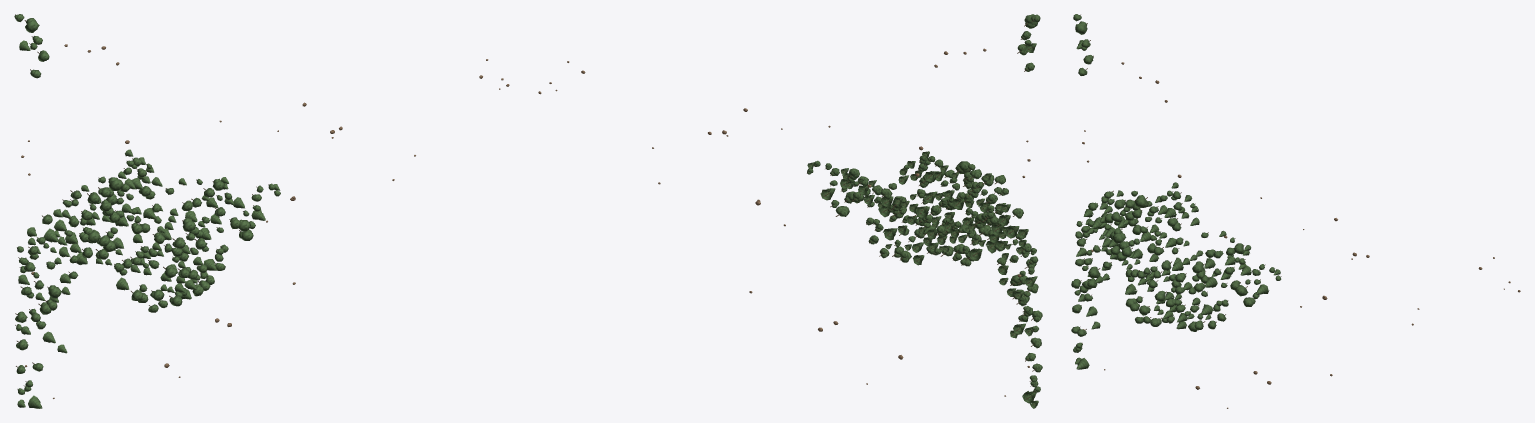
The model's file is green_island_002_vegetation.obj.
The picture shows the model from 3 angles, left to right: view 1: azimuth 30°, elevation 25°; view 2: azimuth 150°, elevation 25°; view 3: azimuth 330°, elevation 25°; orthographic projection. The views are drawn at different scales.
Parts seen in each view (by area): view 1: vegetation; view 2: vegetation; view 3: vegetation.
Part boxes in pixels (bbox=[...]): vegetation: bbox=[14, 14, 509, 408]; vegetation: bbox=[538, 14, 1042, 408]; vegetation: bbox=[1071, 14, 1520, 408].
Size of the model in its own units: 409 by 319 by 62.5.
Materials: 5 (5 with a texture image).
